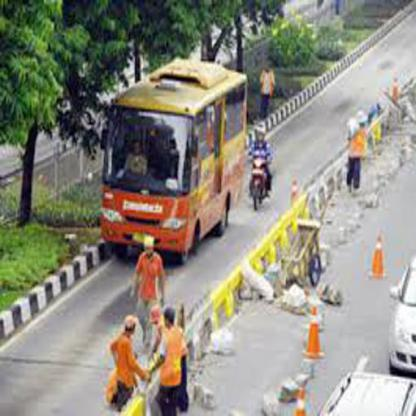bus: (102, 59, 244, 261)
motorbike: (246, 152, 276, 212)
